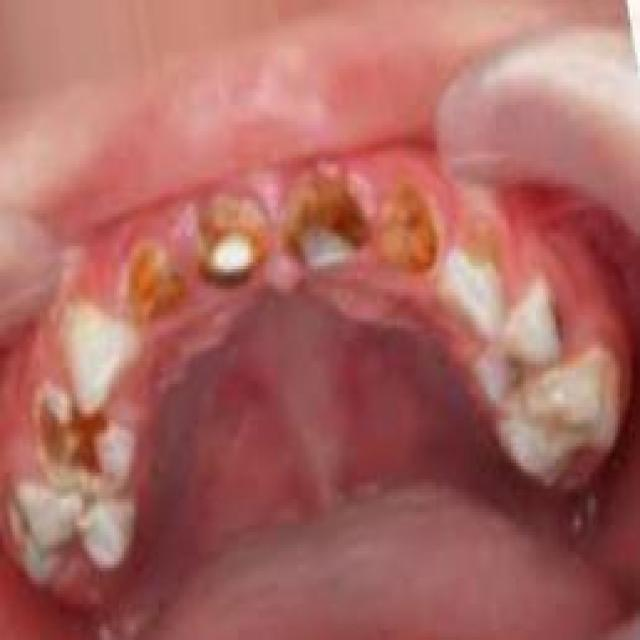caries: (27, 380, 137, 495), (272, 170, 386, 280), (371, 165, 447, 287), (188, 197, 269, 289), (120, 239, 190, 322), (455, 208, 519, 293)
